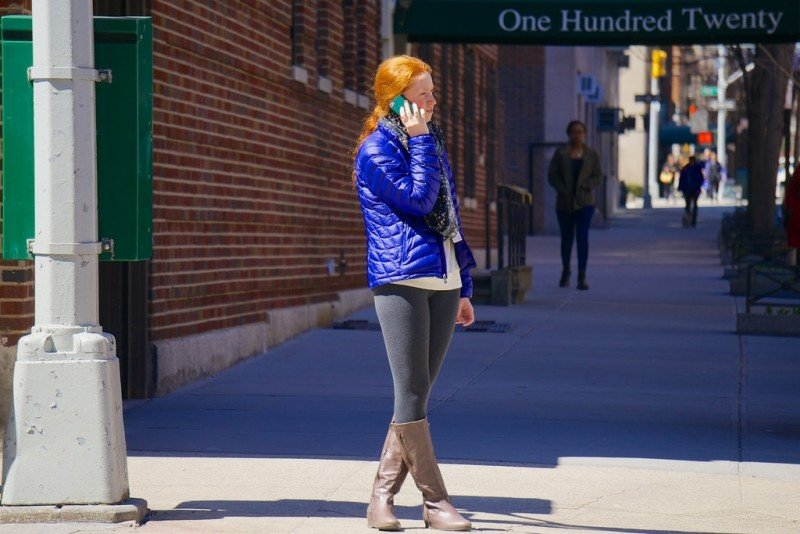phone: (390, 92, 423, 128)
talk: (384, 75, 440, 144)
